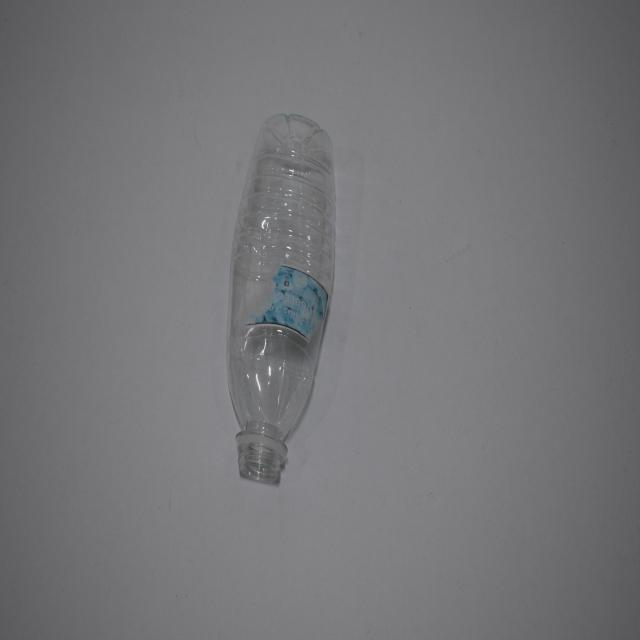bottle: (216, 103, 346, 498)
